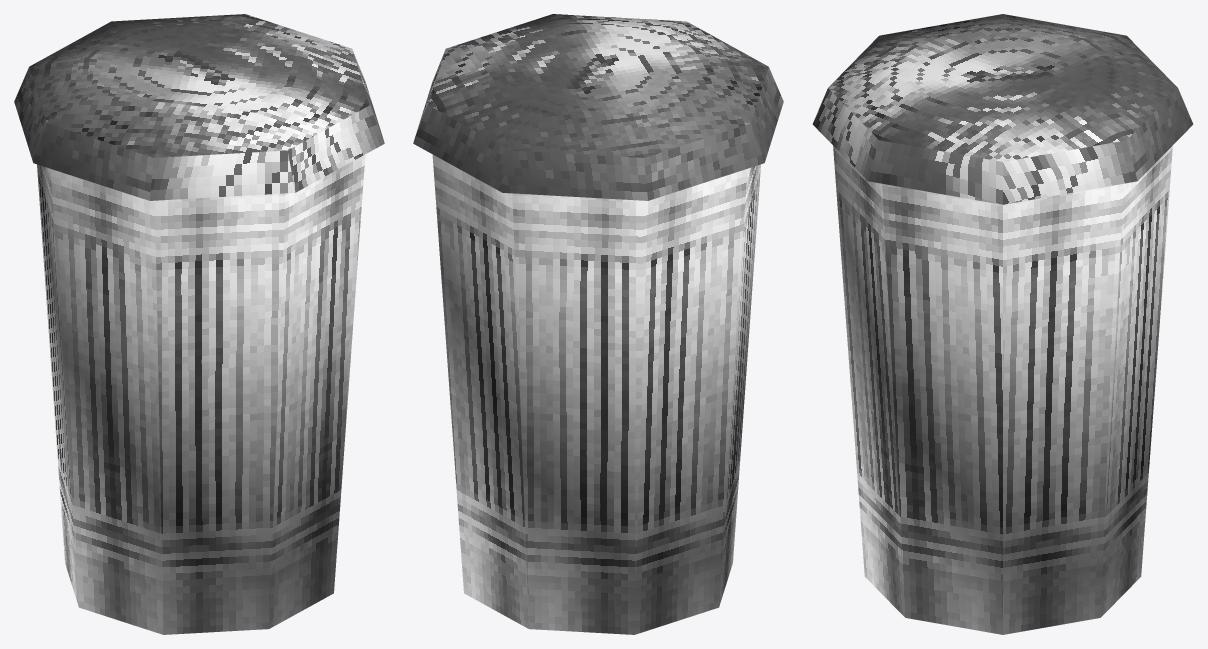
File: trash_can.glb
3 views of the same model, side by side, from view 1: azimuth 30°, elevation 25°; view 2: azimuth 150°, elevation 25°; view 3: azimuth 270°, elevation 25° (orthographic).
Parts seen in each view (by area): view 1: TrashCan, TrashCanLid; view 2: TrashCan, TrashCanLid; view 3: TrashCan, TrashCanLid.
Part boxes in pixels (left/top/right/bottom): TrashCan: left=37, top=154, right=365, bottom=634; TrashCanLid: left=14, top=14, right=384, bottom=200; TrashCan: left=432, top=154, right=760, bottom=634; TrashCanLid: left=413, top=14, right=783, bottom=200; TrashCan: left=833, top=145, right=1172, bottom=634; TrashCanLid: left=812, top=14, right=1193, bottom=204.
Bounding box in the file's own units: 0.6615 × 0.9641 × 0.6615.
1 material, 1 textured.
